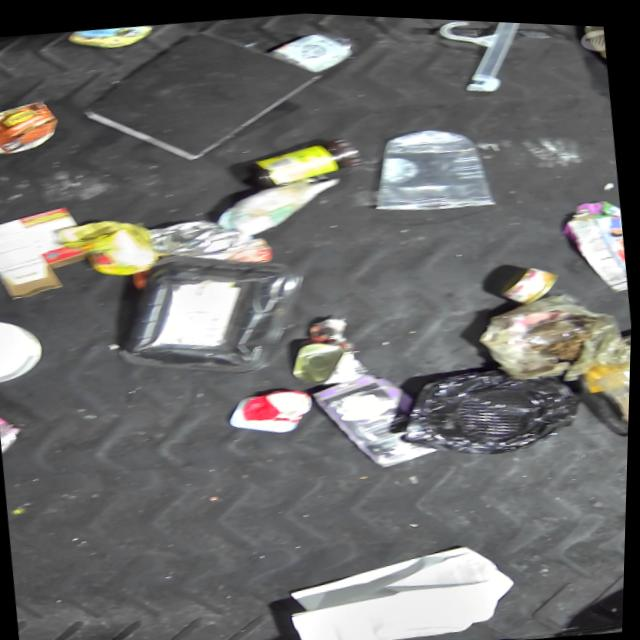can: (290, 332, 372, 386), (494, 257, 563, 304)
